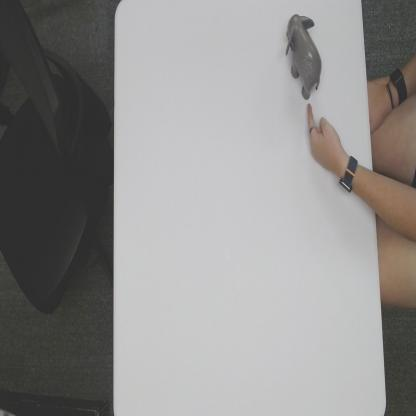Arm: (361, 160, 415, 235)
Elephant: (283, 12, 323, 101)
Hand: (306, 104, 342, 173)
